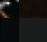pickaxe: (0, 0, 19, 18)
